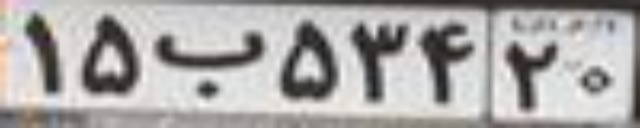0: (575, 65, 616, 94)
1: (24, 14, 62, 92)
2: (504, 38, 561, 111)
3: (348, 23, 409, 100)
4: (416, 23, 474, 104)
5: (77, 14, 142, 94), (277, 19, 338, 101)
be: (152, 31, 264, 98)
